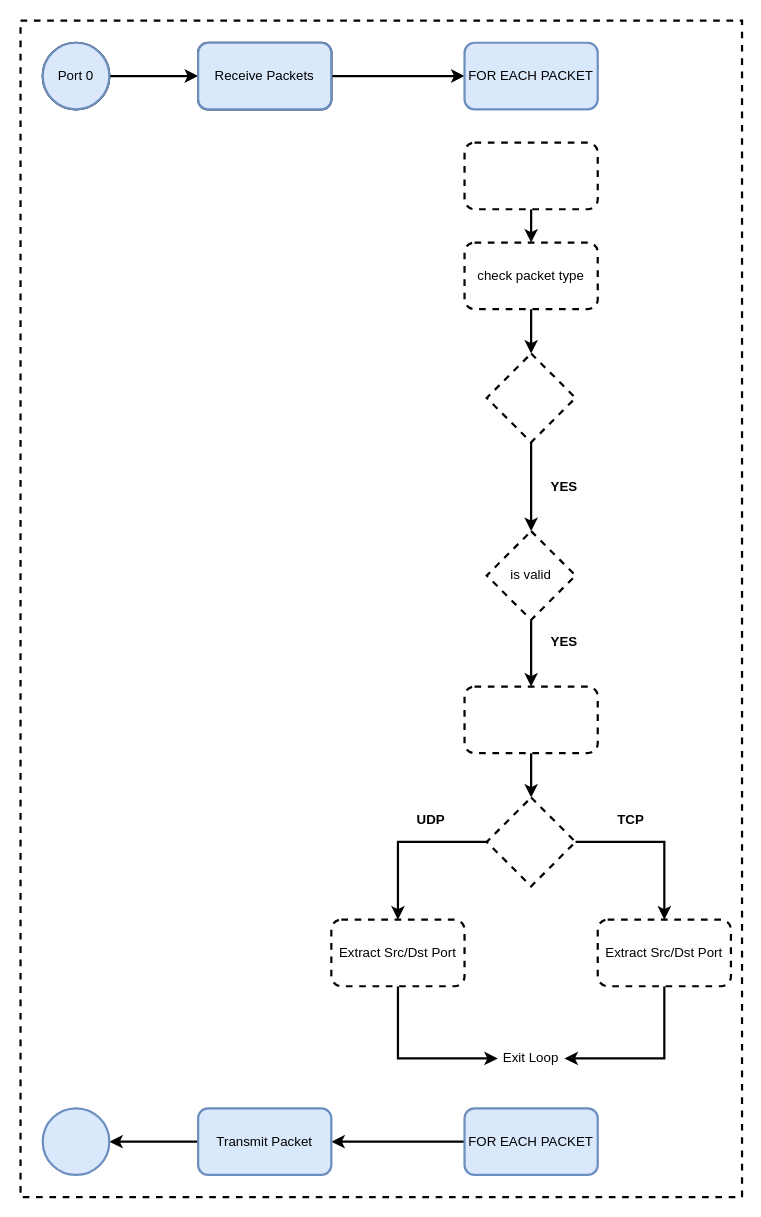
The diagram is 761 pixels wide and 1217 high, and some of its shapes have lost their labels. The shapes that lost their labels are listed below. From the top down, each one's centre as x and y in pixels, then its label:
[530,175]: extract MAC addresses
[530,397]: is_ipv4
[530,719]: Extract Src/Dst IPv4 Address
[530,841]: next layer?
[75,1141]: Port 1
